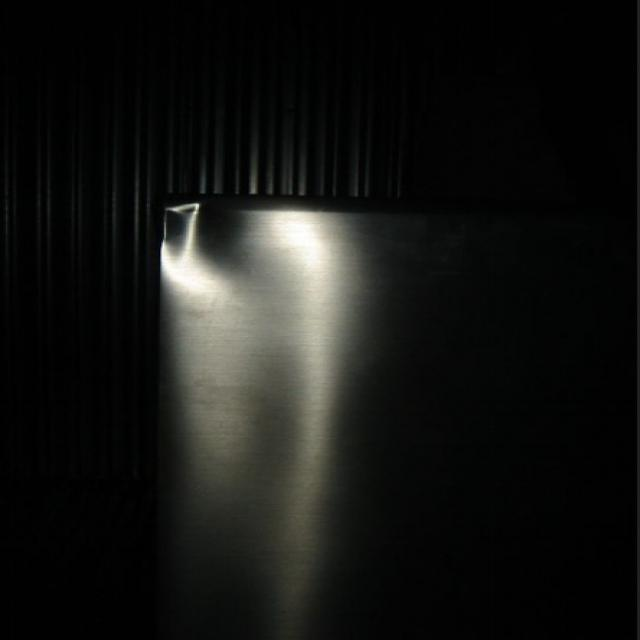dents: (159, 204, 260, 292)
